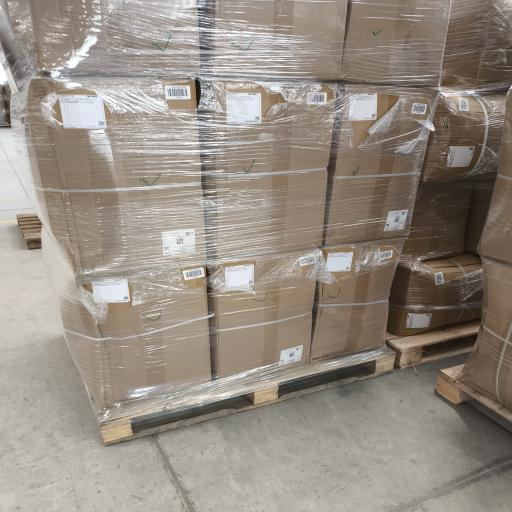pallet: (90, 347, 394, 445), (436, 365, 511, 431), (387, 320, 480, 368), (17, 214, 42, 249)
